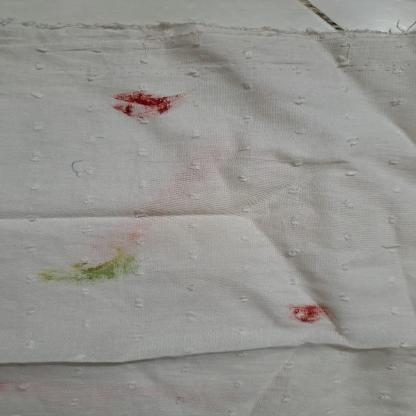spot: (90, 237, 148, 278), (109, 88, 186, 116), (33, 264, 110, 288), (276, 297, 333, 326)
